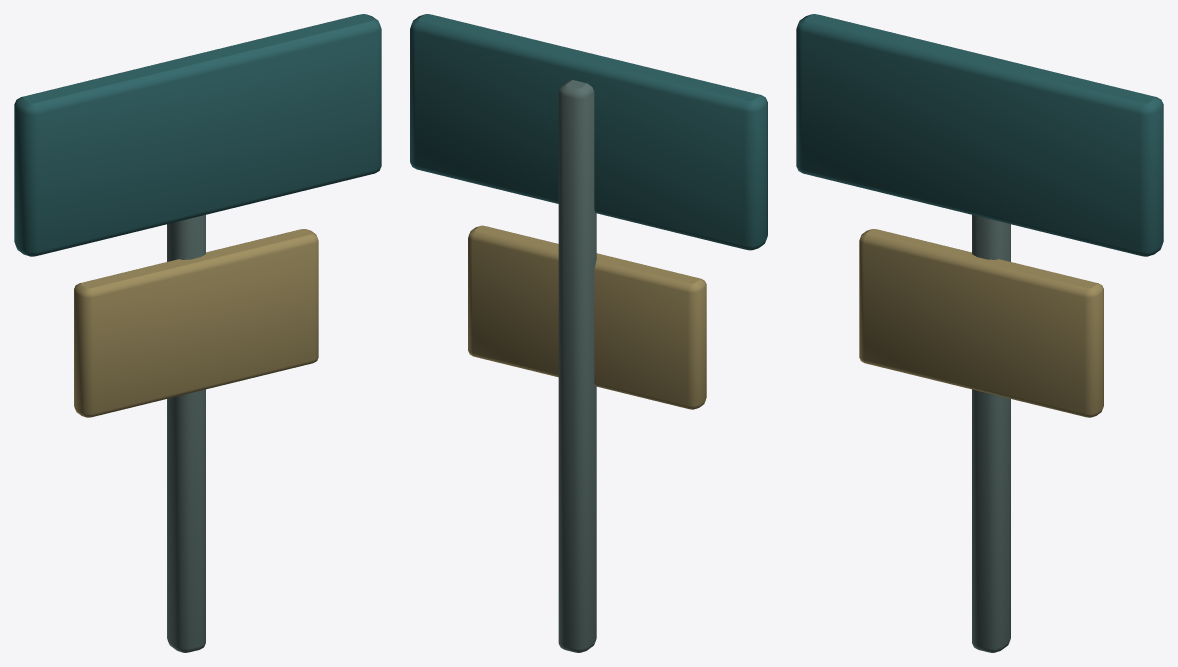
File: route_sign.glb
The picture shows the model from 3 angles, left to right: view 1: azimuth 30°, elevation 25°; view 2: azimuth 150°, elevation 25°; view 3: azimuth 330°, elevation 25°; orthographic projection. The views are drawn at different scales.
Visible parts, largest first — view 1: Route_sign; view 2: Route_sign; view 3: Route_sign.
Boxes of the visible parts, left/top/right/bottom form: Route_sign: left=14, top=14, right=381, bottom=652; Route_sign: left=410, top=14, right=767, bottom=652; Route_sign: left=796, top=14, right=1163, bottom=652.
Size of the model in its own units: 1.25 by 1.99 by 0.1815.
